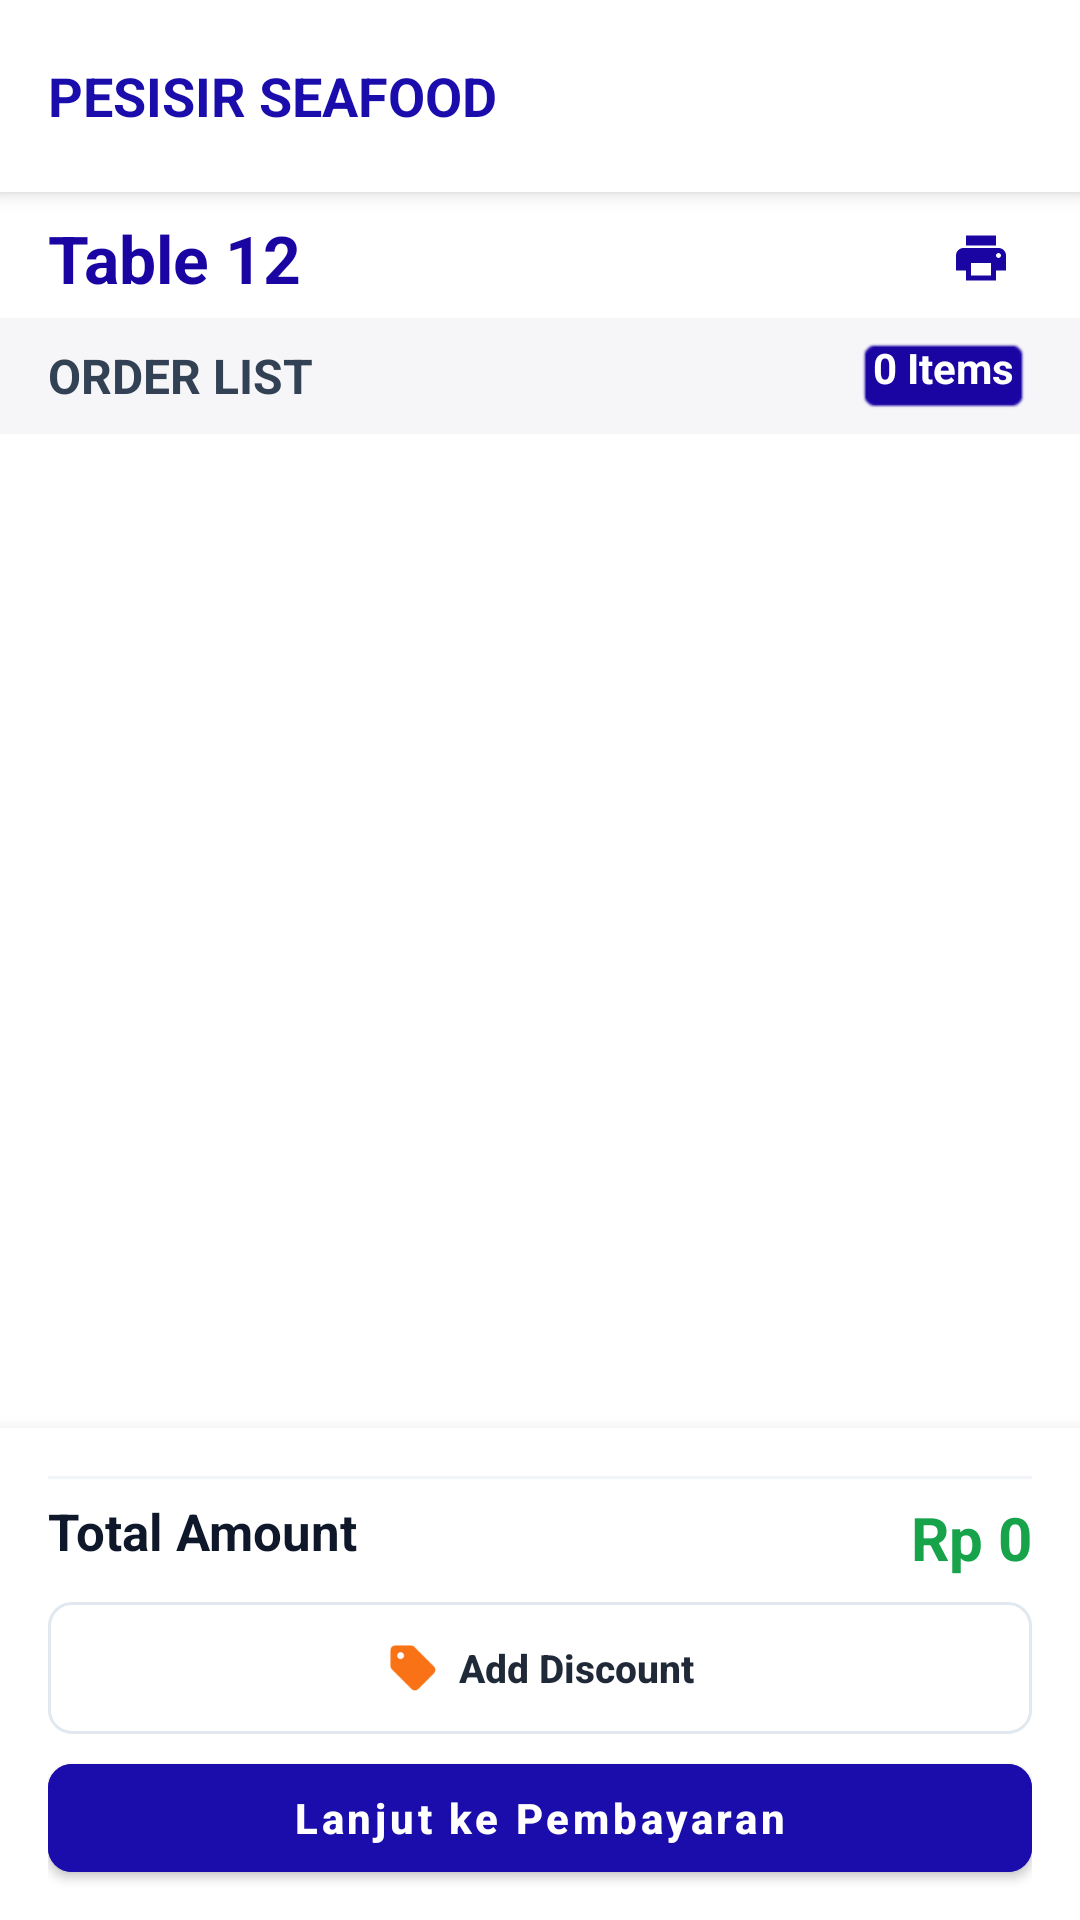

Where icons sit on this 1080x1920 app screen, as [x1, y1, x2, y2]:
Print Receipt: [956, 235, 1006, 281]
